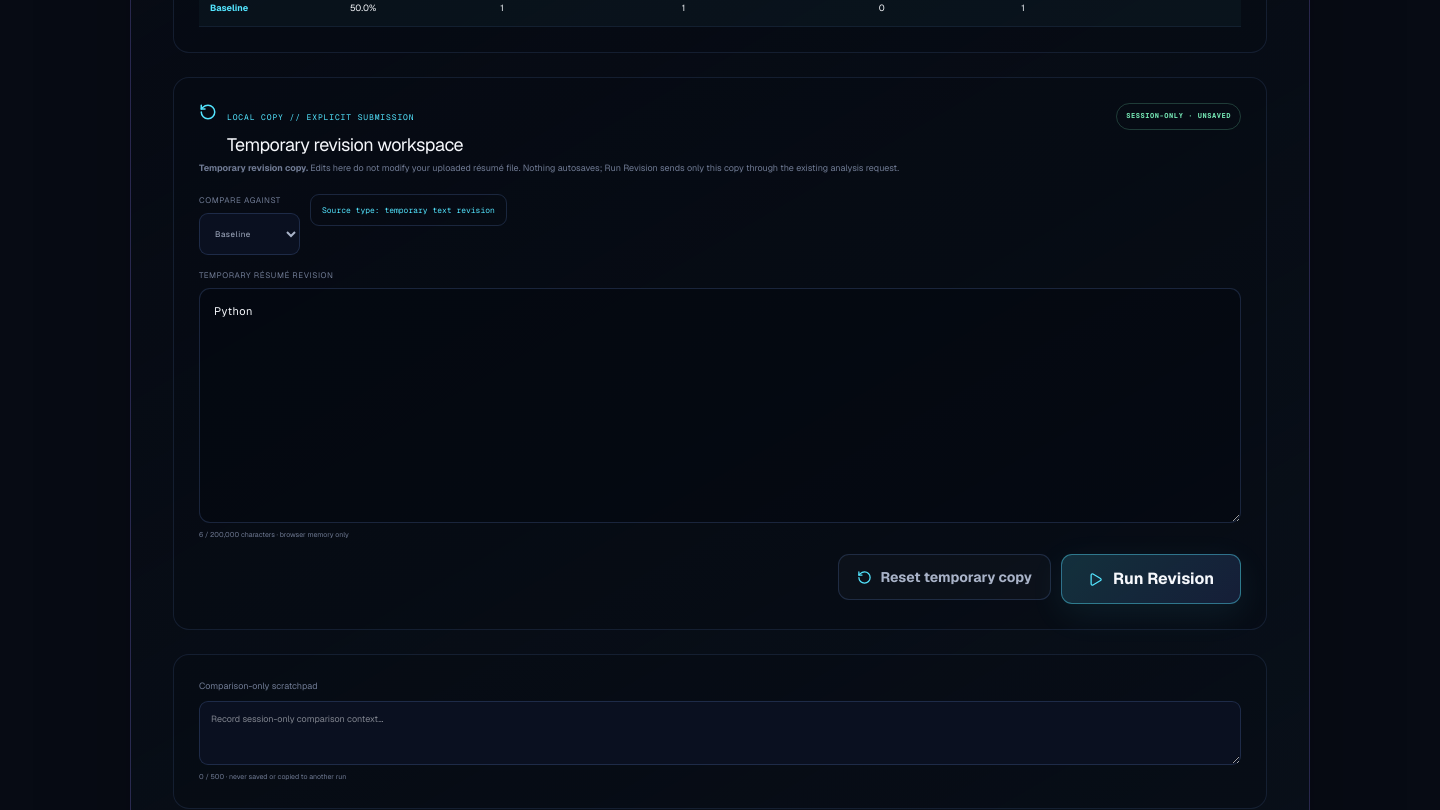
Test: ResumeLab › submits a temporary text revision only after the explicit action
(page scrolled)
Step 1. Type " SQL" into the text box labelled "Temporary résumé revision" → (720, 405), box [199,288,1241,522]
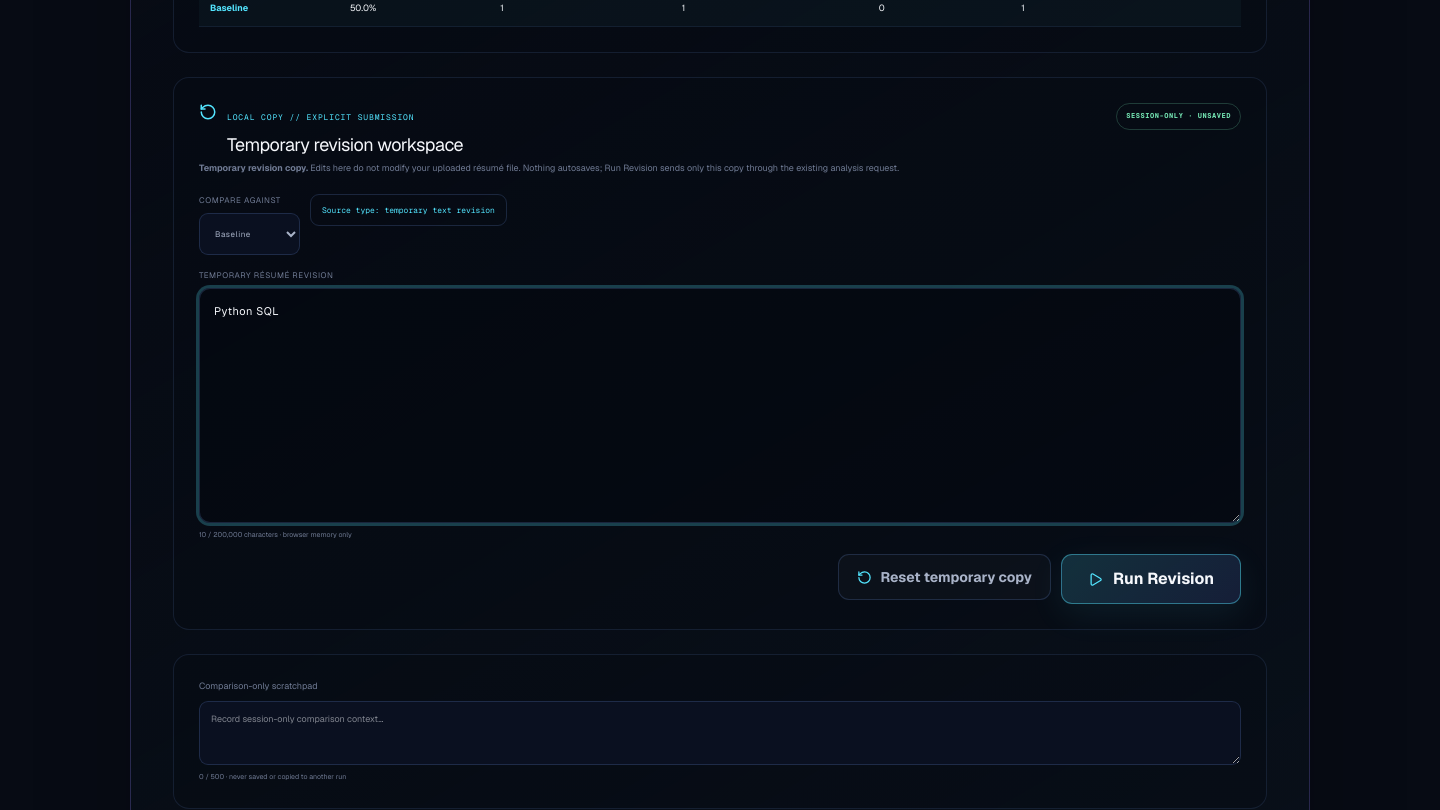
Expected: the text "Edits here do not modify your uploaded résumé file" is shown, [308,162,899,174]
Step 2. Click the button "Run Revision" → (1151, 579), box [1061,554,1241,604]
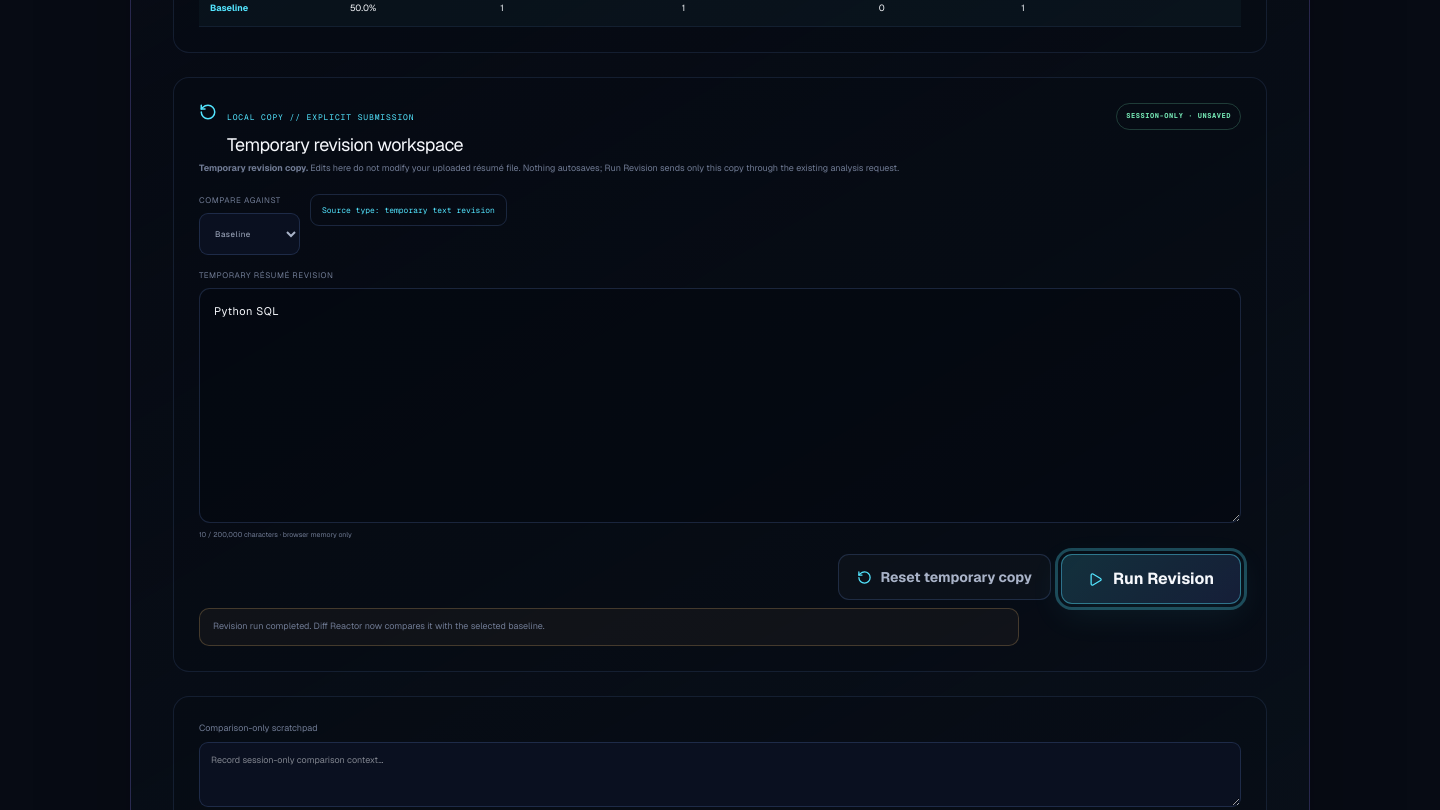
Expected: the text "Revision run completed" is shown, [213,620,545,632]
